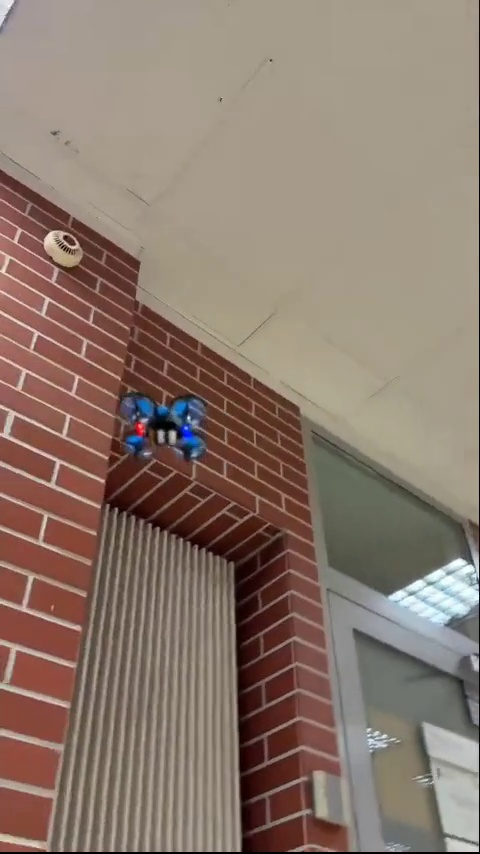drone: (119, 396, 204, 461)
